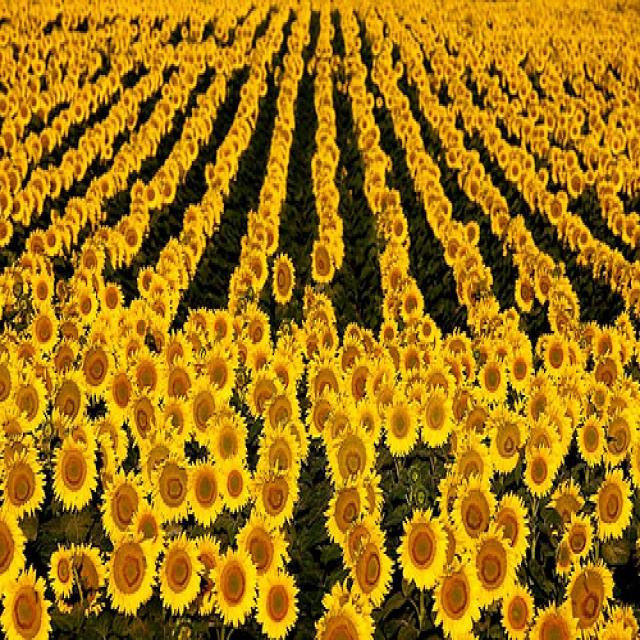sunflower: (398, 501, 452, 598), (101, 534, 161, 614), (569, 558, 620, 640), (52, 434, 100, 520), (464, 526, 516, 604), (0, 577, 59, 637), (326, 480, 372, 555), (214, 548, 258, 626), (453, 468, 495, 549), (330, 424, 380, 492), (257, 558, 296, 640), (0, 450, 47, 518), (156, 532, 198, 607), (353, 532, 395, 605), (595, 472, 631, 548), (253, 466, 299, 525), (179, 380, 224, 437), (15, 361, 50, 434), (379, 392, 418, 456), (488, 412, 524, 478), (186, 452, 217, 528), (516, 444, 560, 496), (245, 364, 281, 426), (570, 415, 610, 468), (393, 272, 429, 330), (422, 387, 457, 445), (473, 352, 509, 407), (56, 371, 89, 430), (120, 391, 160, 439), (51, 538, 78, 604), (268, 244, 296, 306), (299, 240, 338, 282), (28, 308, 64, 352), (305, 386, 335, 437), (339, 335, 370, 384), (507, 346, 534, 396), (26, 267, 58, 309), (511, 272, 545, 311), (542, 332, 569, 381), (441, 223, 468, 267), (99, 272, 122, 319), (239, 249, 269, 285), (386, 210, 414, 242), (545, 192, 566, 232), (123, 218, 146, 254), (135, 265, 158, 298), (466, 173, 484, 204)
